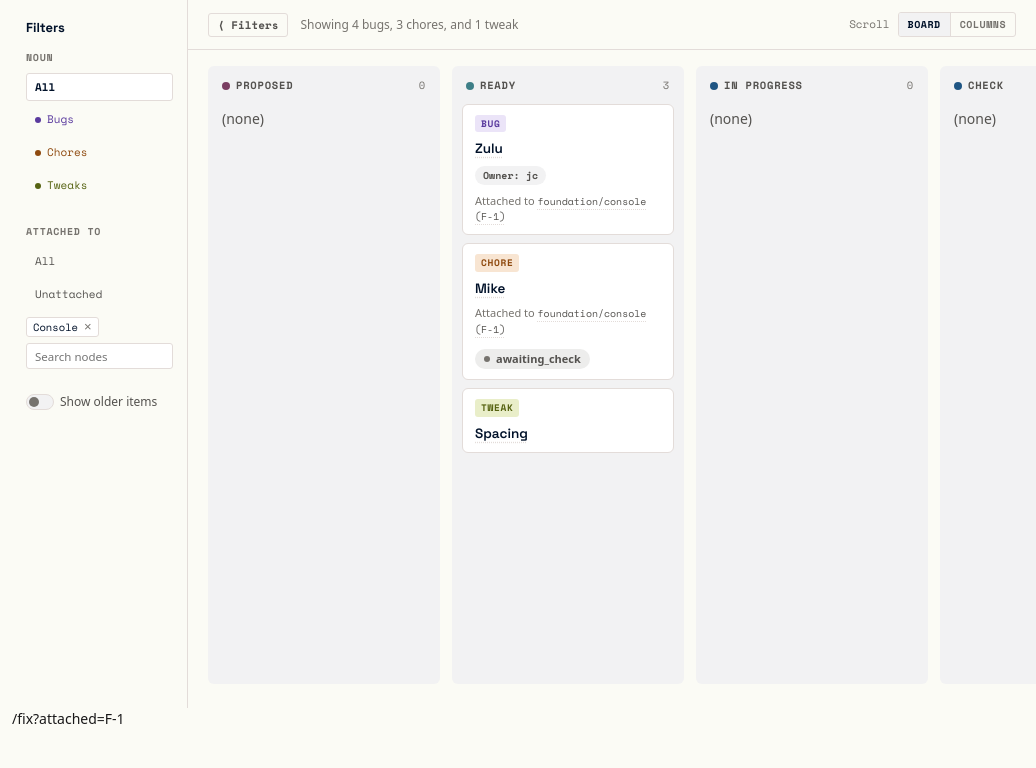
it: Fix board › counts only visible cards through attachment filters and the Closed history window
Expected: the text "Showing 4 bugs, 3 chores, and 1 tweak" is shown, [300,16,518,34]
Click the switch labelled "Show older items" at (40, 402), box [26,394,54,410]
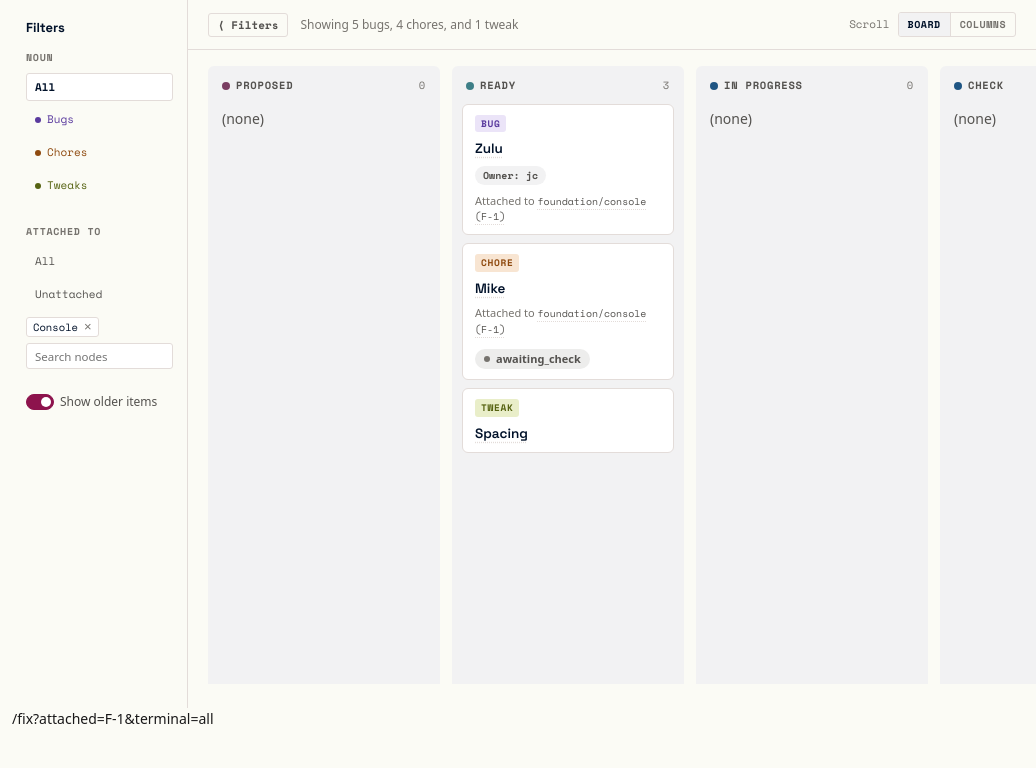
Result: the text "Showing 5 bugs, 4 chores, and 1 tweak" is shown at [300,16,518,34]
Click the link "Tweaks" at (67, 185), box [47,177,87,193]
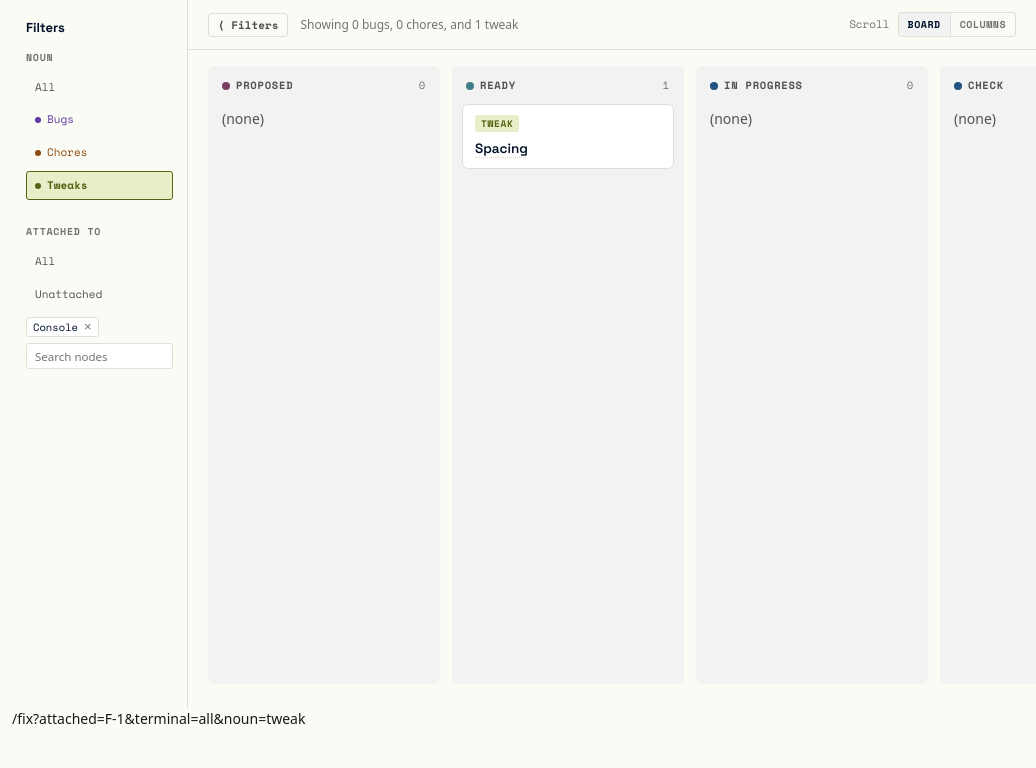
Result: the text "Showing 0 bugs, 0 chores, and 1 tweak" is shown at [300,16,518,34]
Result: the link "Zulu" is gone
Result: the text with test id "location" shows "attached=F-1&terminal=all&noun=tweak" at [12,709,306,728]
